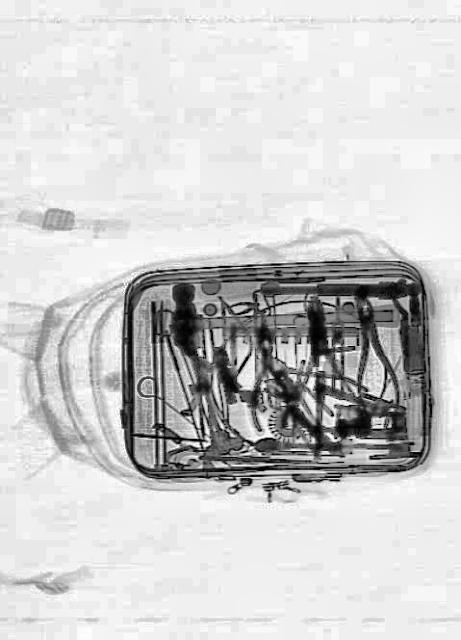Pliers: (283, 292, 359, 428), (236, 308, 302, 434), (340, 286, 402, 416)
